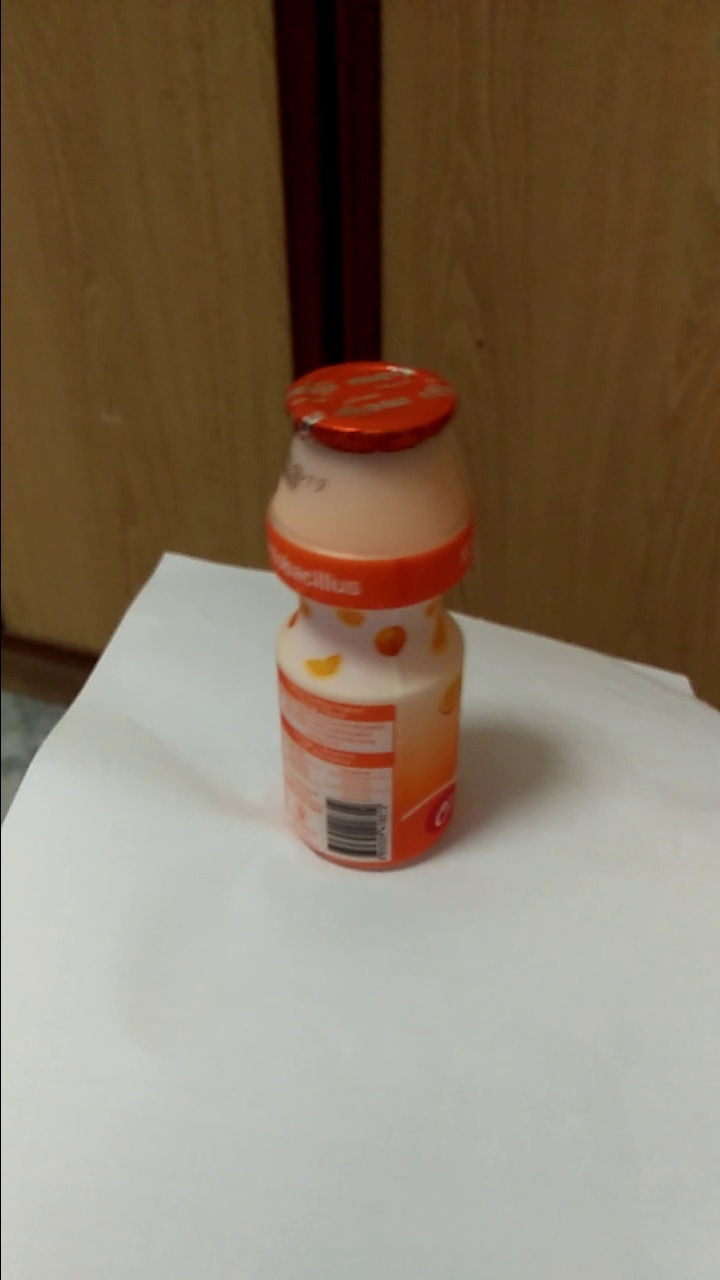milk: (276, 368, 464, 872)
